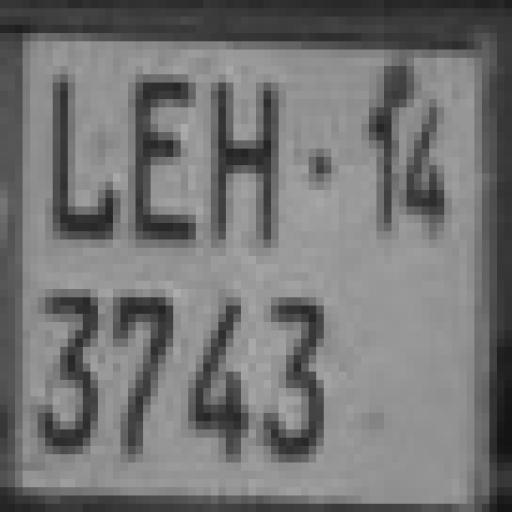3: (264, 285, 333, 464), (39, 287, 100, 472)
4: (190, 292, 256, 464)
7: (101, 284, 177, 462)
E: (122, 55, 204, 266)
H: (212, 66, 288, 264)
L: (48, 70, 120, 256)
